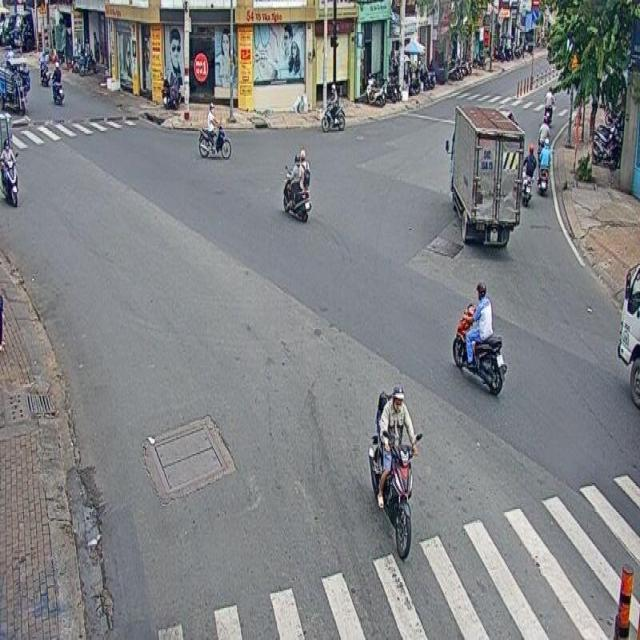motorcycle: (368, 382, 422, 561), (451, 282, 508, 396), (282, 148, 312, 222), (198, 104, 232, 162), (1, 137, 18, 209)
truck: (450, 105, 522, 245)
